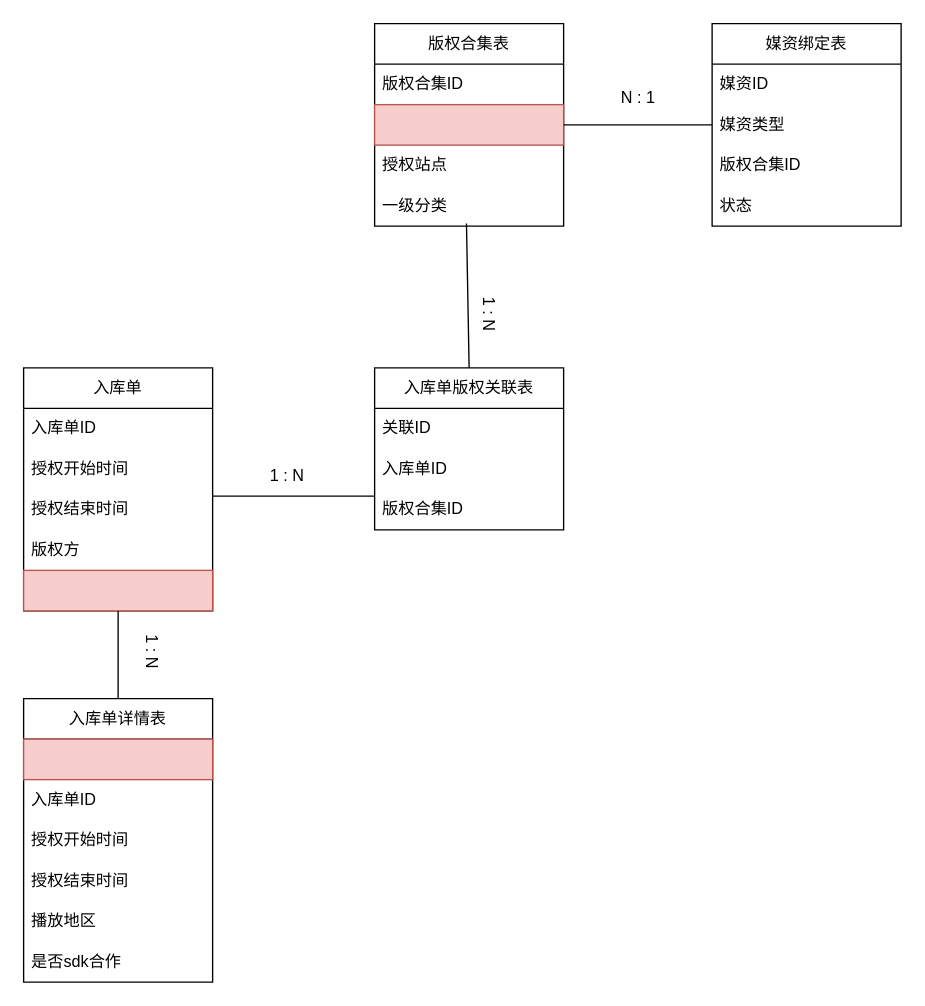
Some shapes in this 925 by 1006 pixel diagram are drawn without their labels. The centre of each missing label's shape, as x and y in pixels:
是否CP合作: the point at 117,590
是否黑名单: the point at 468,124
终端: the point at 117,759
